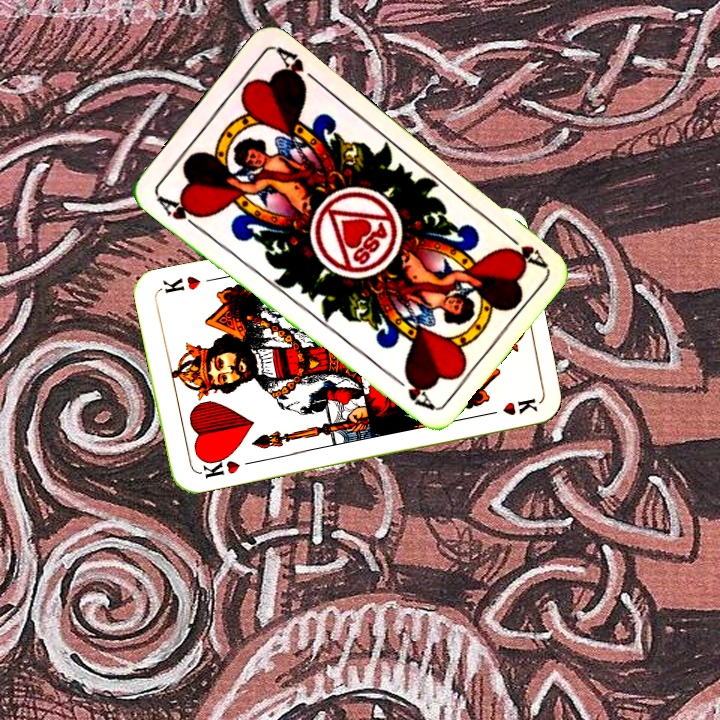HA: (152, 191, 206, 233), (498, 226, 548, 270)
HK: (194, 451, 243, 481)
